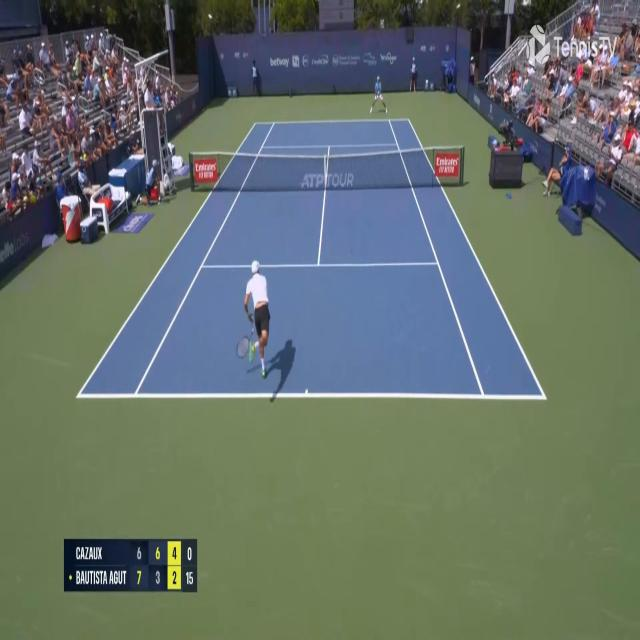tennis-player: (235, 256, 271, 385), (368, 75, 388, 116)
